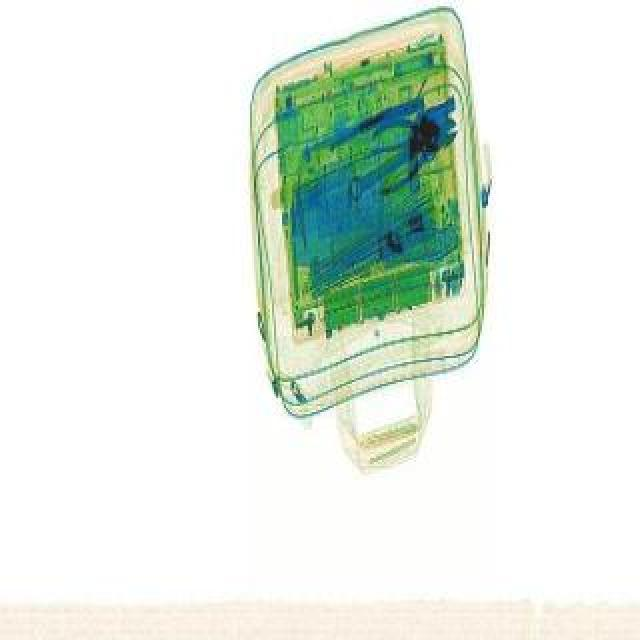gun: (404, 94, 460, 190)
knife: (288, 172, 460, 264)
scissors: (338, 116, 466, 204)
wrench: (342, 92, 472, 198)
